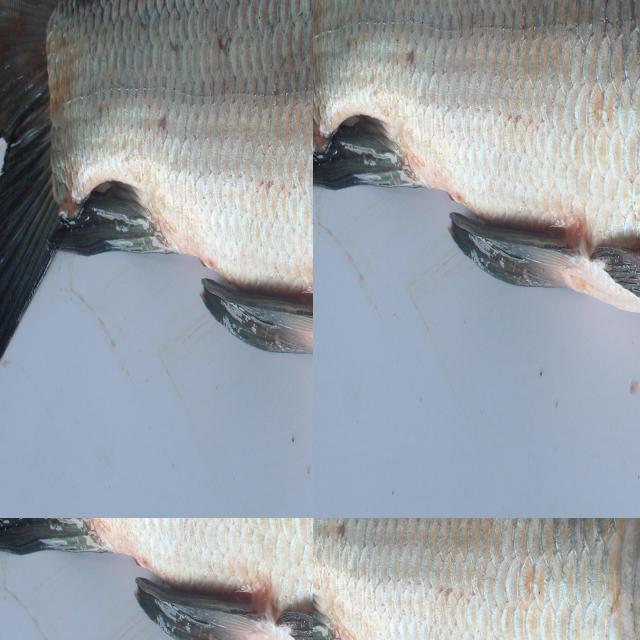fish: (313, 518, 640, 640)
